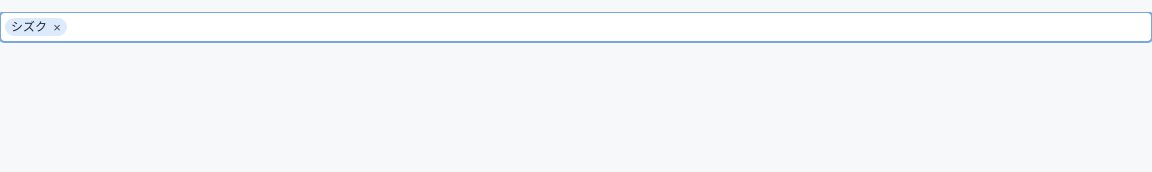
ActiveFindGlossarySelect (#424 Slice 6) › single: choosing a candidate replaces the selection and closes the popup
Press ArrowDown in the dropdown with class "activeFindPanelGlossarySelectInput", box [70,15,1147,39]
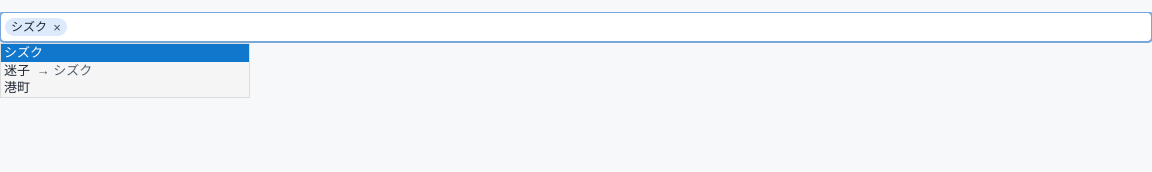
Click the option with class "activeFindPanelGlossarySelectOption" showing "港町": (17, 88) [4,80,30,95]
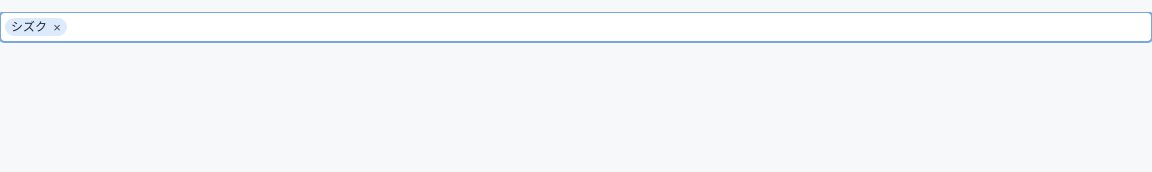
Check: the list with class "activeFindPanelGlossarySelectPopup" is gone
